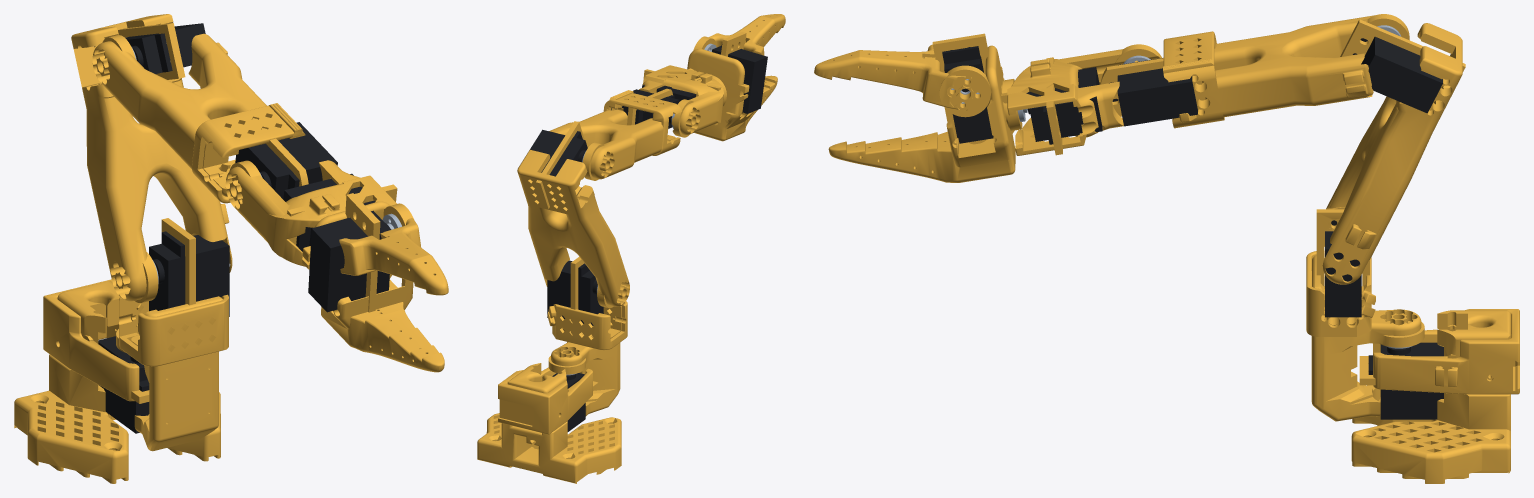
The model's file is so101-follower.glb.
3 renders of one model, left to right at view 1: azimuth 30°, elevation 25°; view 2: azimuth 150°, elevation 25°; view 3: azimuth 270°, elevation 25°, orthographic. The views are drawn at different scales.
Parts seen in each view (by area): view 1: follower_upper_arm_link:follower_print, follower_base_link:follower_print, follower_lower_arm_link:follower_print, follower_shoulder_link:follower_print, follower_gripper_link:follower_print, follower_wrist_link:follower_print, follower_moving_jaw_so101_v1_link:follower_print, follower_shoulder_link:servo, follower_gripper_link:servo, follower_lower_arm_link:servo, follower_upper_arm_link:servo, follower_base_link:servo (+1 smaller); view 2: follower_base_link:follower_print, follower_upper_arm_link:follower_print, follower_shoulder_link:follower_print, follower_lower_arm_link:follower_print, follower_gripper_link:follower_print, follower_wrist_link:follower_print, follower_shoulder_link:servo, follower_moving_jaw_so101_v1_link:follower_print, follower_gripper_link:servo, follower_upper_arm_link:servo, follower_lower_arm_link:servo, follower_base_link:servo; view 3: follower_base_link:follower_print, follower_lower_arm_link:follower_print, follower_upper_arm_link:follower_print, follower_shoulder_link:follower_print, follower_gripper_link:follower_print, follower_wrist_link:follower_print, follower_moving_jaw_so101_v1_link:follower_print, follower_lower_arm_link:servo, follower_upper_arm_link:servo, follower_base_link:servo, follower_wrist_link:servo, follower_shoulder_link:servo (+1 smaller).
Part boxes in pixels (left/top/right/bottom): follower_upper_arm_link:follower_print: left=71, top=14, right=232, bottom=302; follower_base_link:follower_print: left=14, top=279, right=220, bottom=483; follower_lower_arm_link:follower_print: left=92, top=33, right=308, bottom=203; follower_shoulder_link:follower_print: left=116, top=218, right=228, bottom=451; follower_gripper_link:follower_print: left=302, top=193, right=444, bottom=372; follower_wrist_link:follower_print: left=225, top=160, right=397, bottom=266; follower_moving_jaw_so101_v1_link:follower_print: left=339, top=203, right=448, bottom=295; follower_shoulder_link:servo: left=149, top=231, right=229, bottom=316; follower_gripper_link:servo: left=308, top=210, right=391, bottom=312; follower_lower_arm_link:servo: left=235, top=122, right=337, bottom=199; follower_upper_arm_link:servo: left=125, top=23, right=205, bottom=74; follower_base_link:servo: left=98, top=336, right=149, bottom=433; follower_base_link:follower_print: left=477, top=363, right=621, bottom=483; follower_upper_arm_link:follower_print: left=517, top=121, right=629, bottom=308; follower_shoulder_link:follower_print: left=547, top=256, right=627, bottom=416; follower_lower_arm_link:follower_print: left=549, top=88, right=682, bottom=180; follower_gripper_link:follower_print: left=687, top=32, right=777, bottom=141; follower_wrist_link:follower_print: left=639, top=65, right=723, bottom=137; follower_shoulder_link:servo: left=547, top=260, right=603, bottom=325; follower_moving_jaw_so101_v1_link:follower_print: left=693, top=14, right=785, bottom=55; follower_gripper_link:servo: left=712, top=44, right=767, bottom=113; follower_upper_arm_link:servo: left=530, top=129, right=587, bottom=176; follower_lower_arm_link:servo: left=611, top=89, right=679, bottom=128; follower_base_link:servo: left=552, top=373, right=585, bottom=431; follower_base_link:follower_print: left=1351, top=309, right=1519, bottom=483; follower_lower_arm_link:follower_print: left=1100, top=14, right=1409, bottom=128; follower_upper_arm_link:follower_print: left=1322, top=19, right=1465, bottom=284; follower_shoulder_link:follower_print: left=1306, top=209, right=1424, bottom=421; follower_gripper_link:follower_print: left=828, top=33, right=1022, bottom=182; follower_wrist_link:follower_print: left=1001, top=44, right=1161, bottom=155; follower_moving_jaw_so101_v1_link:follower_print: left=814, top=44, right=990, bottom=117; follower_lower_arm_link:servo: left=1109, top=58, right=1197, bottom=126; follower_upper_arm_link:servo: left=1352, top=36, right=1442, bottom=113; follower_base_link:servo: left=1368, top=342, right=1443, bottom=419; follower_wrist_link:servo: left=1026, top=67, right=1102, bottom=144; follower_shoulder_link:servo: left=1325, top=220, right=1361, bottom=317.
Bounding box in the file's own units: 0.1108 × 0.2551 × 0.3853.
